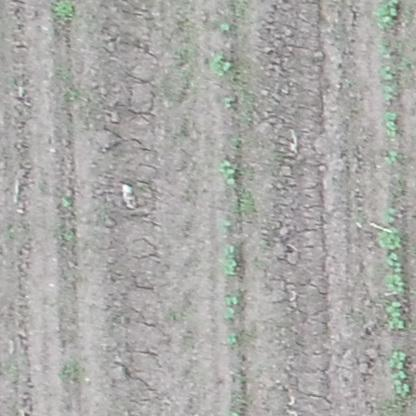vc: (221, 245, 242, 277), (386, 300, 407, 330), (375, 1, 401, 25), (218, 158, 239, 186), (391, 373, 414, 398), (210, 52, 232, 76), (380, 230, 404, 251), (384, 112, 402, 139), (384, 276, 407, 293), (388, 351, 408, 369), (378, 40, 394, 59), (388, 252, 403, 272), (380, 65, 395, 84), (385, 86, 397, 105), (384, 206, 397, 222), (385, 149, 398, 164), (227, 332, 238, 345), (223, 96, 234, 108), (220, 220, 229, 234), (227, 295, 239, 305), (224, 310, 235, 320), (220, 23, 230, 32)
